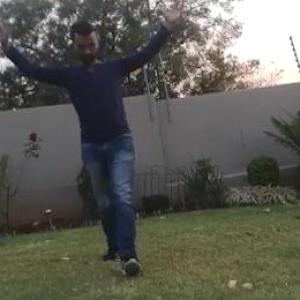takeoff: (1, 0, 200, 281)
